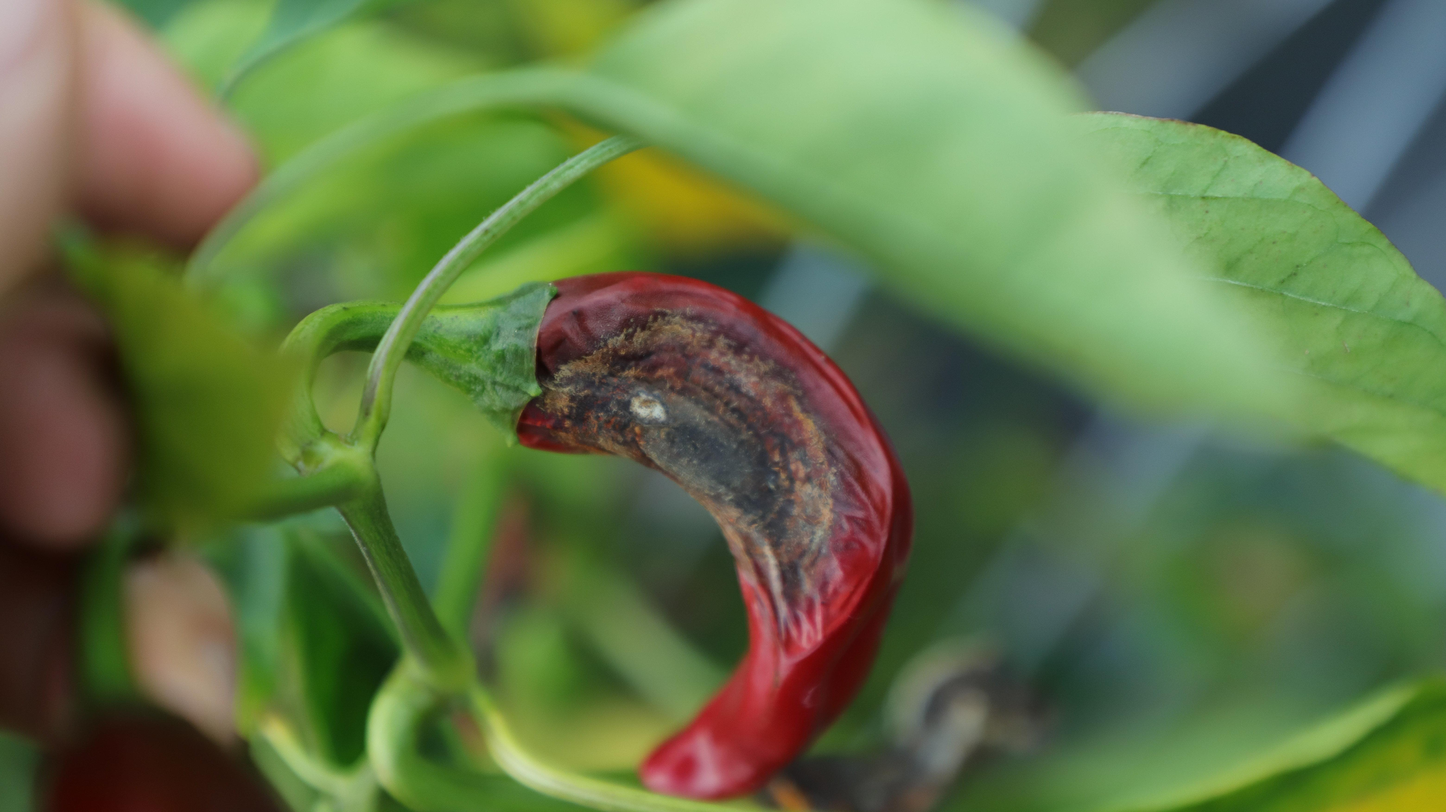Busuk Buah Antraknosa: (489, 260, 922, 798)
